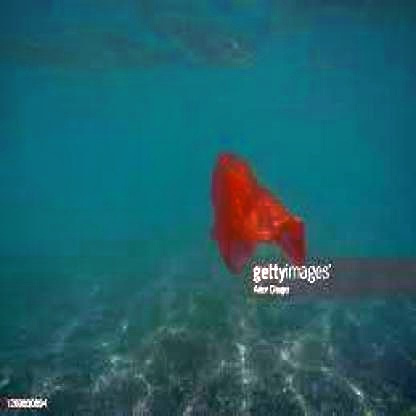pbag: (209, 152, 310, 277)
